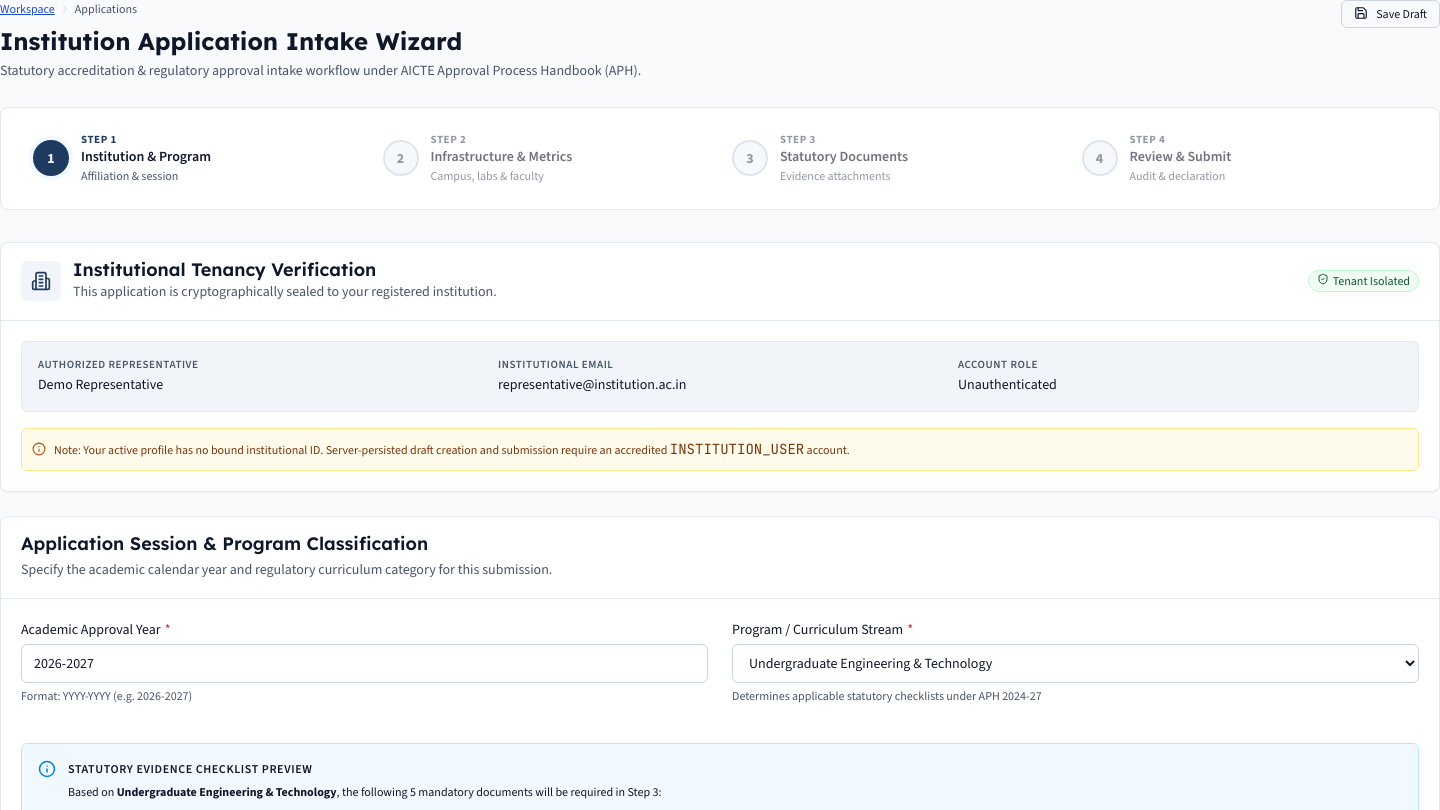
Test case: Application Wizard & Intake (FE-03) › handles manual Save Draft failure and 401 session expiration gracefully
Click the button "Save Draft" at (1391, 14), box top-left (1341, 0), bottom-right (1439, 28)
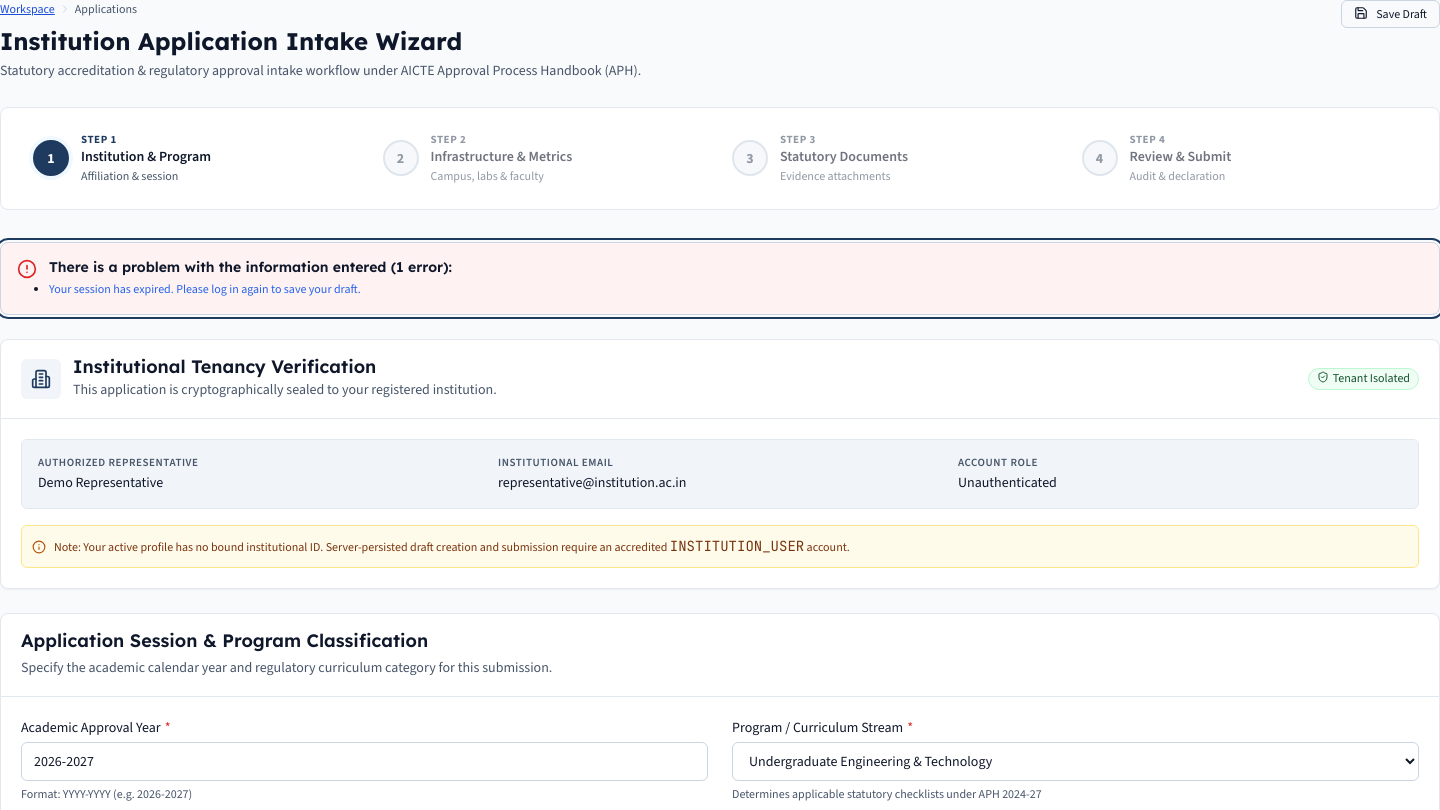
Expected: the link "Your session has expired. Please log in again to save your draft." is shown, top-left (49, 281), bottom-right (361, 297)
